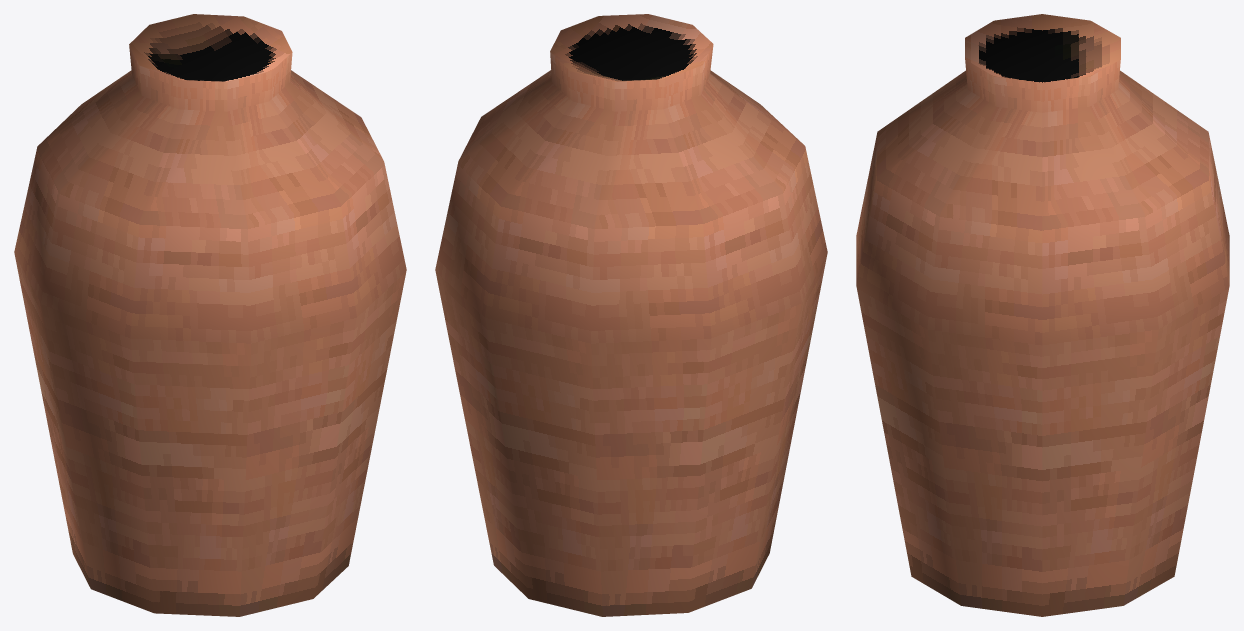
Rendered from Pottery01.glb.
3 renders of one model, left to right at view 1: azimuth 30°, elevation 25°; view 2: azimuth 150°, elevation 25°; view 3: azimuth 270°, elevation 25°, orthographic.
Parts seen in each view (by area): view 1: POTTERY01; view 2: POTTERY01; view 3: POTTERY01.
Part boxes in pixels (x1=…): POTTERY01: x1=14, y1=14, x2=406, y2=616; POTTERY01: x1=435, y1=14, x2=827, y2=616; POTTERY01: x1=856, y1=14, x2=1229, y2=616.
Bounding box in the file's own units: 0.3 × 0.43 × 0.285.
1 material, 1 textured.
